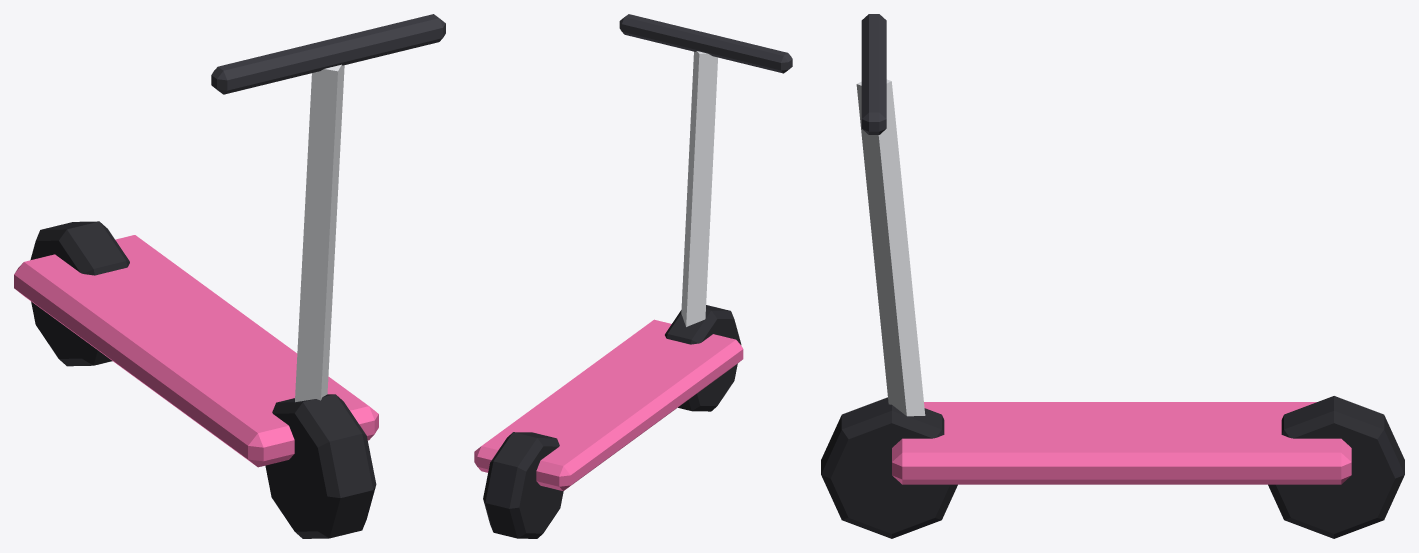
File: Scooter.fbx
The picture shows the model from 3 angles, left to right: view 1: azimuth 30°, elevation 25°; view 2: azimuth 150°, elevation 25°; view 3: azimuth 270°, elevation 25°; orthographic projection. The views are drawn at different scales.
Parts seen in each view (by area): view 1: Scooter, Scooter_WheelF, Scooter_WheelB; view 2: Scooter, Scooter_WheelB, Scooter_WheelF; view 3: Scooter, Scooter_WheelF, Scooter_WheelB.
Boxes of the visible parts, x1=… form: Scooter: x1=14, y1=14, x2=445, y2=467; Scooter_WheelF: x1=265, y1=394, x2=376, y2=538; Scooter_WheelB: x1=30, y1=221, x2=129, y2=366; Scooter: x1=474, y1=14, x2=792, y2=491; Scooter_WheelB: x1=483, y1=432, x2=563, y2=538; Scooter_WheelF: x1=665, y1=305, x2=741, y2=411; Scooter: x1=856, y1=14, x2=1351, y2=484; Scooter_WheelF: x1=821, y1=397, x2=957, y2=538; Scooter_WheelB: x1=1268, y1=396, x2=1404, y2=538.
Size of the model in its own units: 1.4 by 2.92 by 3.3.
Materials: 1 (1 with a texture image).
